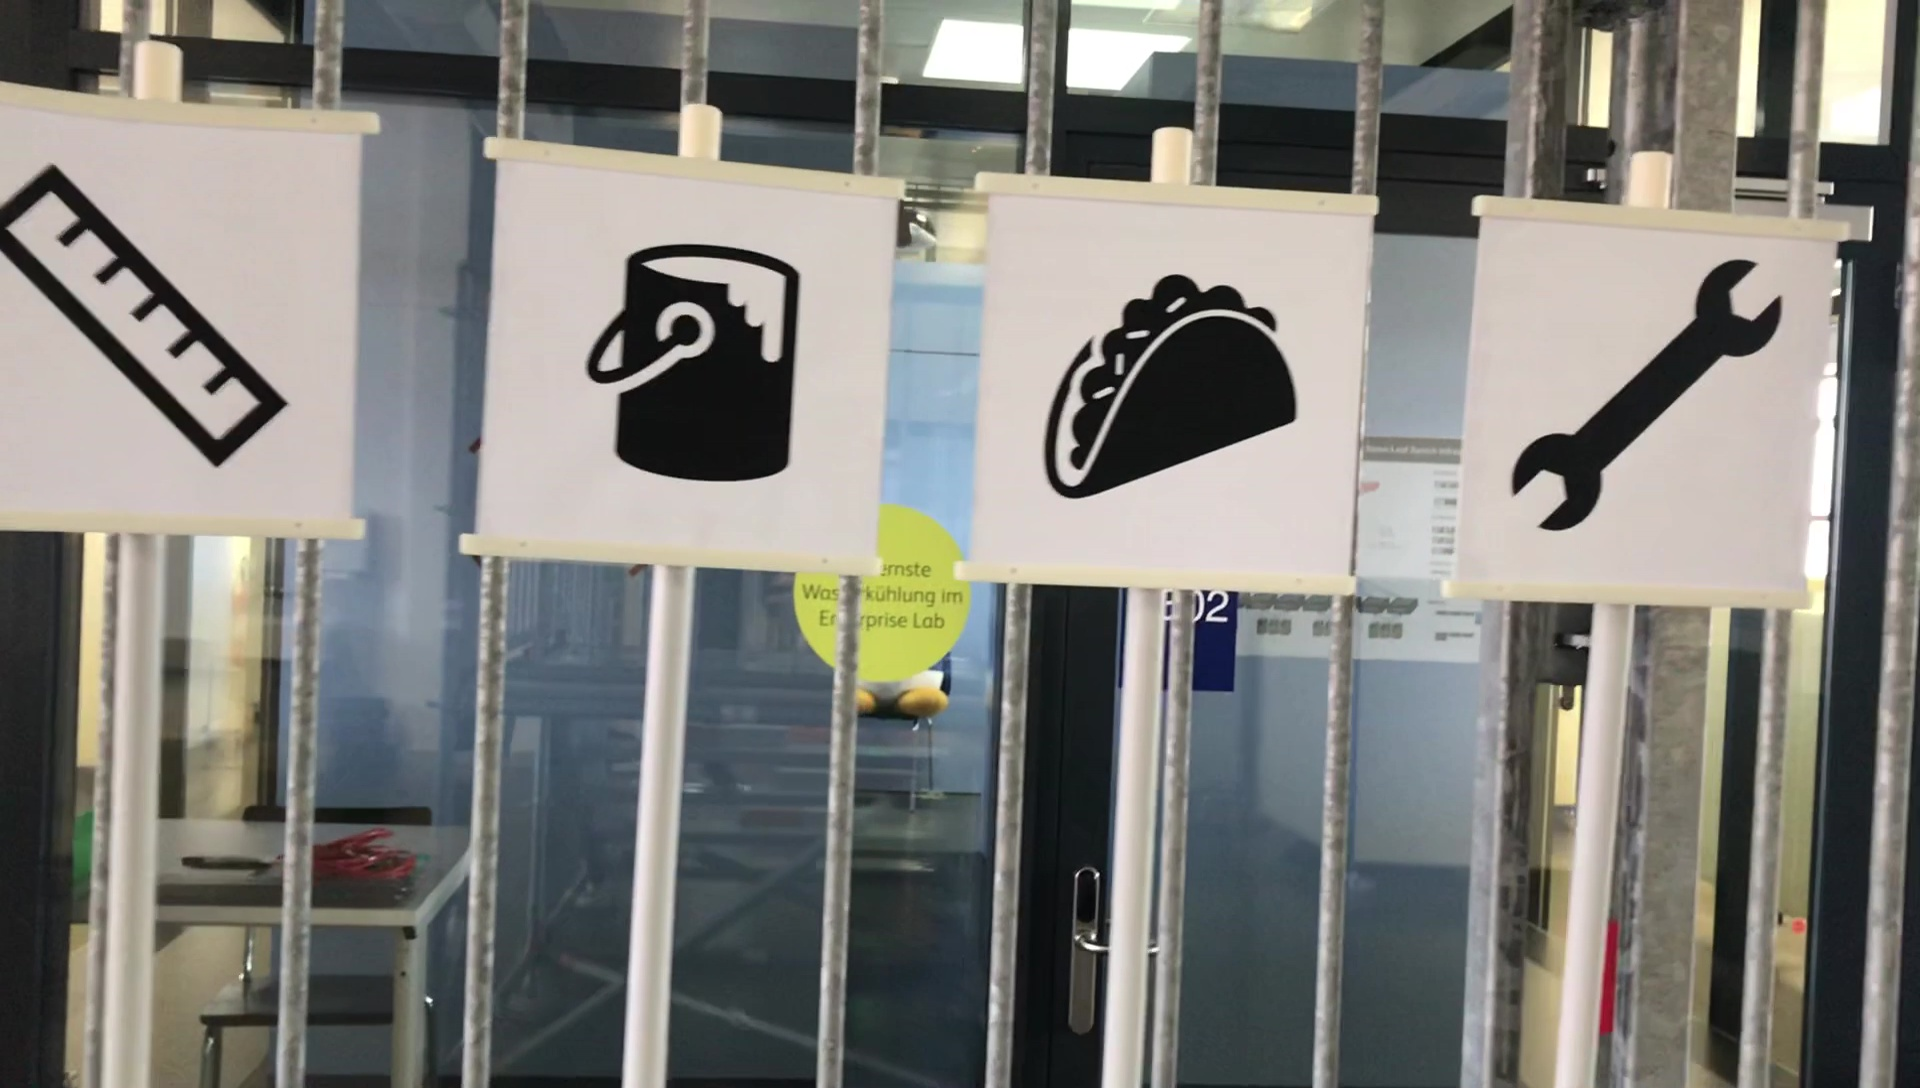bucket: (582, 232, 820, 500)
ruler: (0, 156, 291, 484)
taco: (1030, 258, 1308, 505)
wrench: (1509, 251, 1791, 533)
